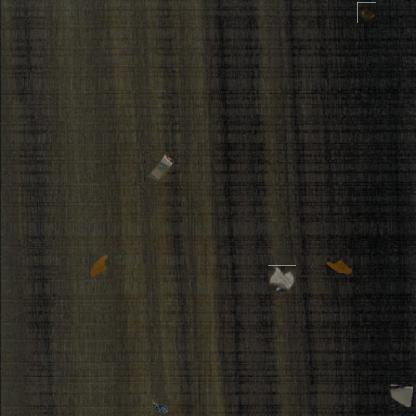dirty: (144, 152, 174, 182), (269, 265, 296, 293), (388, 385, 412, 409), (357, 2, 376, 23), (152, 399, 172, 415)
liquid: (88, 253, 108, 277), (327, 258, 353, 276)
